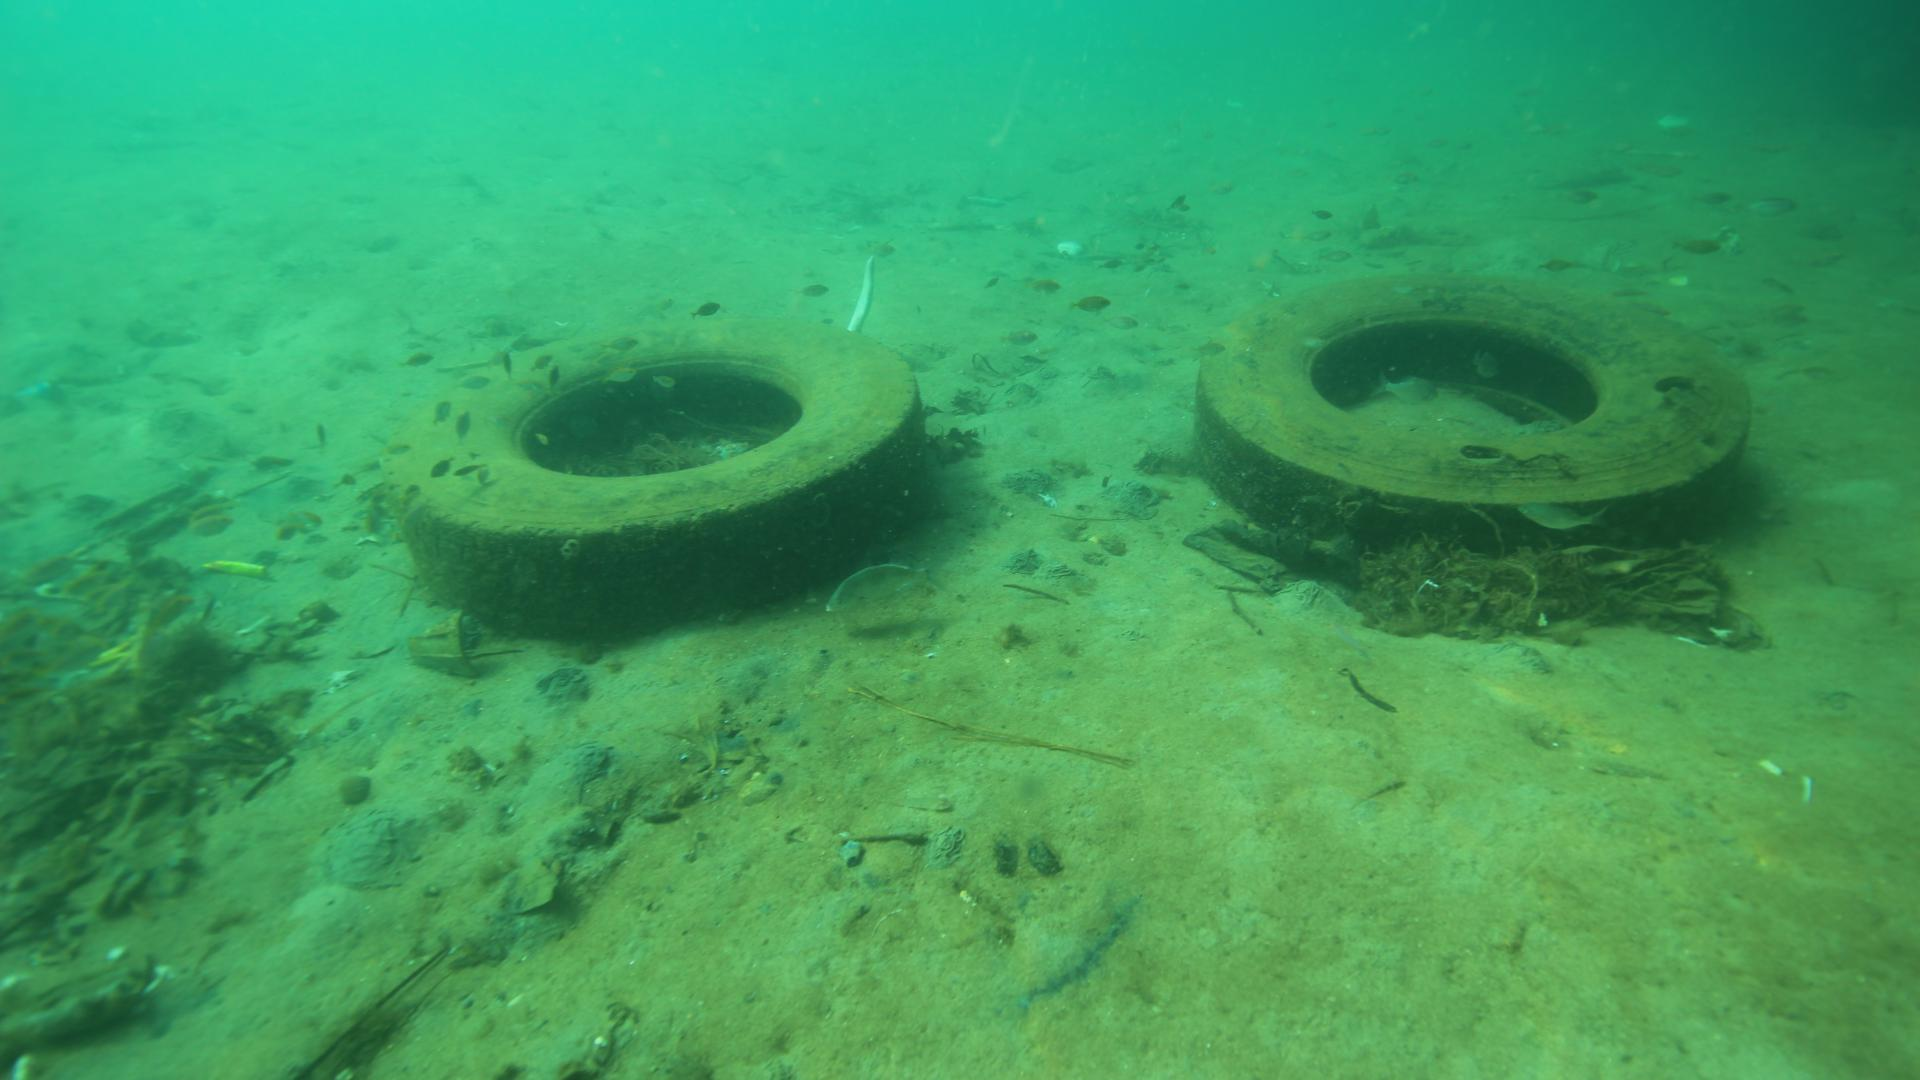tire: (406, 318, 924, 640), (1193, 276, 1745, 578)
